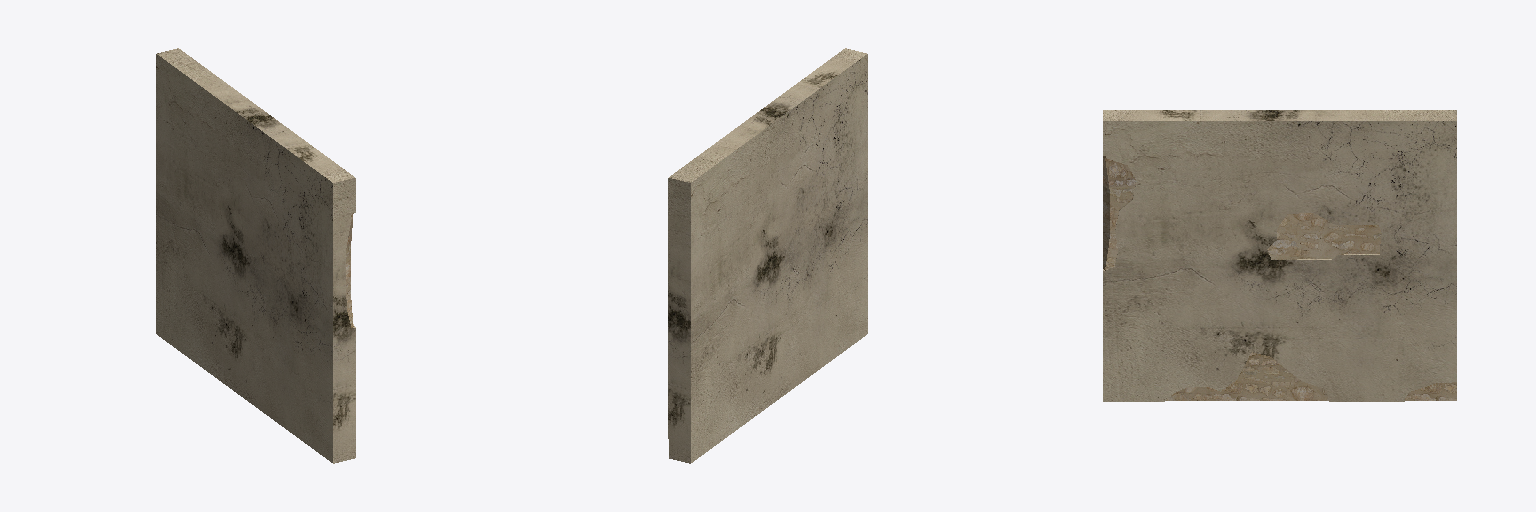
3 renders of one model, left to right at view 1: azimuth 30°, elevation 25°; view 2: azimuth 150°, elevation 25°; view 3: azimuth 270°, elevation 25°, orthographic.
Visible parts, largest first — view 1: Box02; view 2: Box02; view 3: Box02, crack1aaa.
Part boxes in pixels (left/top/right/bottom): Box02: left=156, top=48, right=355, bottom=463; Box02: left=668, top=48, right=867, bottom=463; Box02: left=1103, top=110, right=1456, bottom=401; crack1aaa: left=1103, top=156, right=1456, bottom=400.
Bounding box in the file's own units: 0.2933 × 3.5 × 4.
Materials: 2 (2 with a texture image).